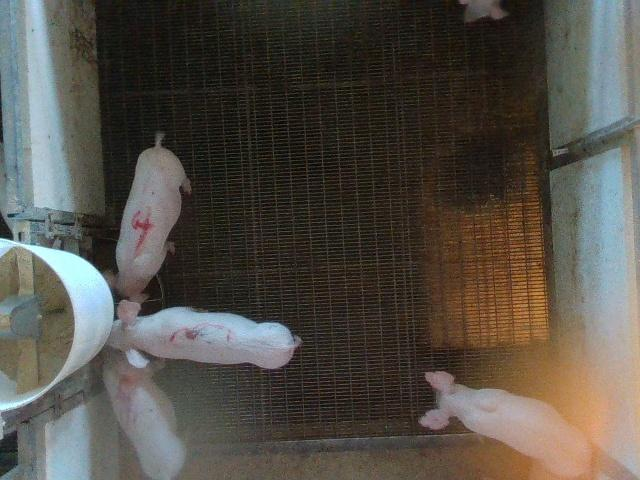pig-3: (106, 300, 301, 369)
pig-4: (104, 131, 191, 302)
pig-5: (104, 348, 185, 479)
